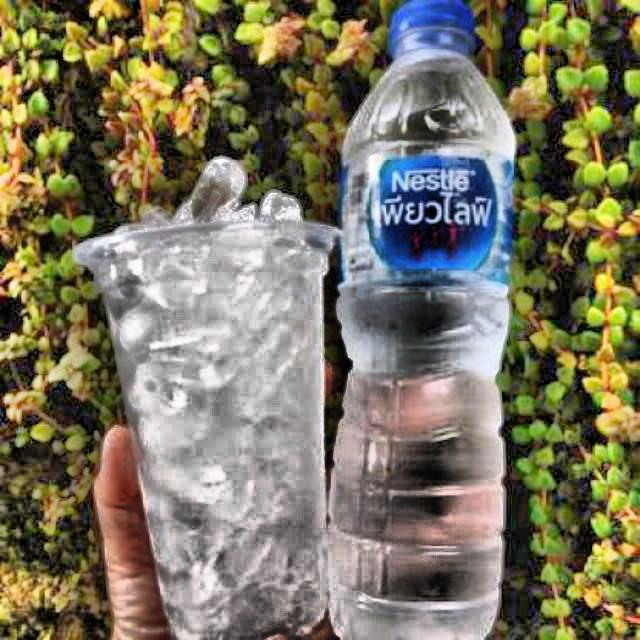Bottles: (324, 2, 522, 640)
